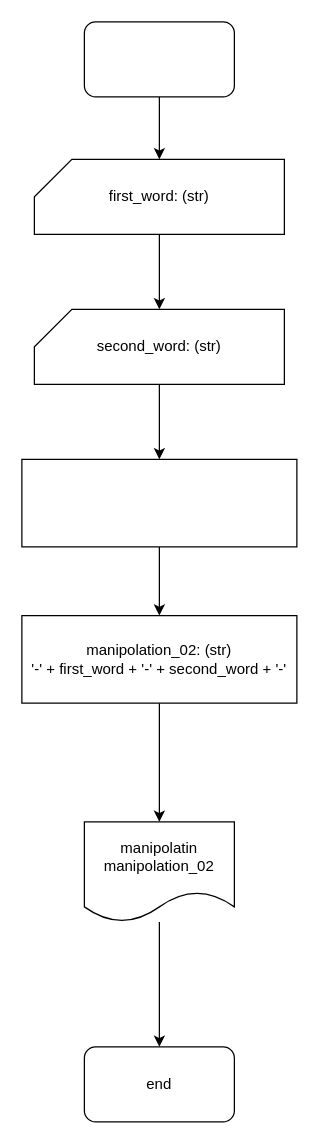
The diagram is 319 pixels wide and 1144 high, and some of its shapes have lost their labels. Each missing label, with the box of its shape:
manipolation: (str) '*' + first_word + '*' + second_word + '*': (21, 458, 297, 547)
start: (83, 21, 234, 97)
